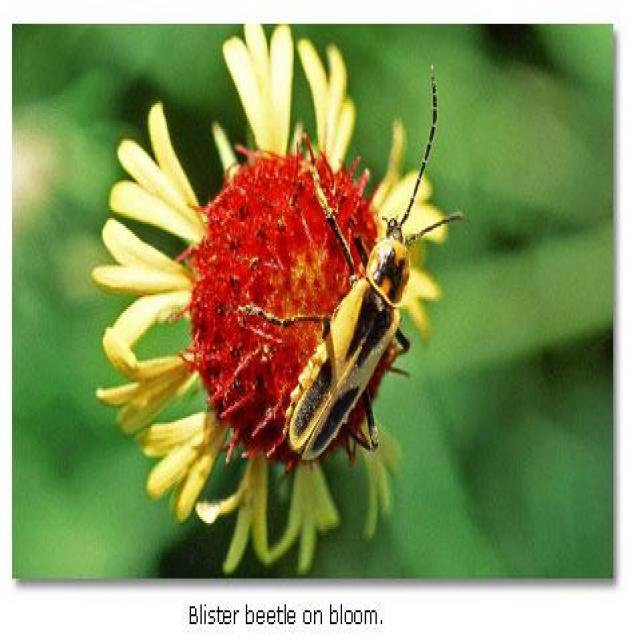BlisterBeetle-Adult-: (268, 95, 451, 471)
